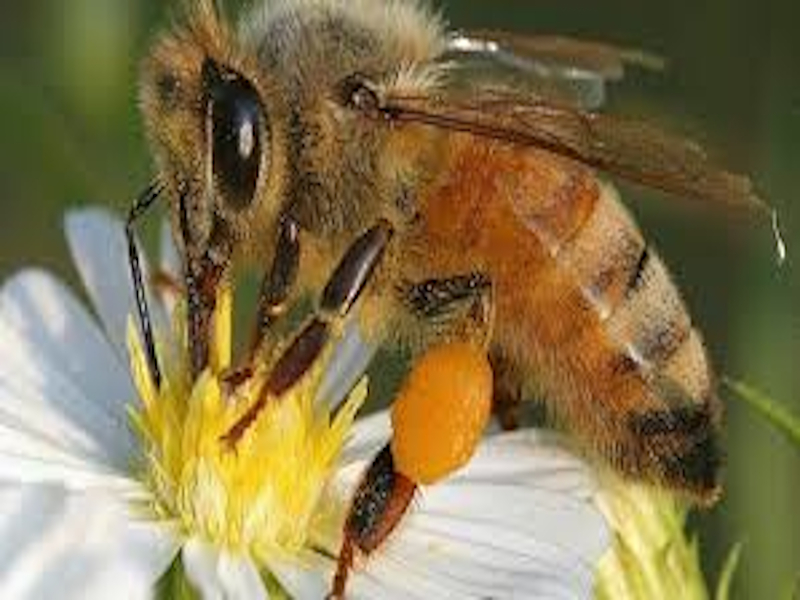abeja: (114, 1, 793, 588)
